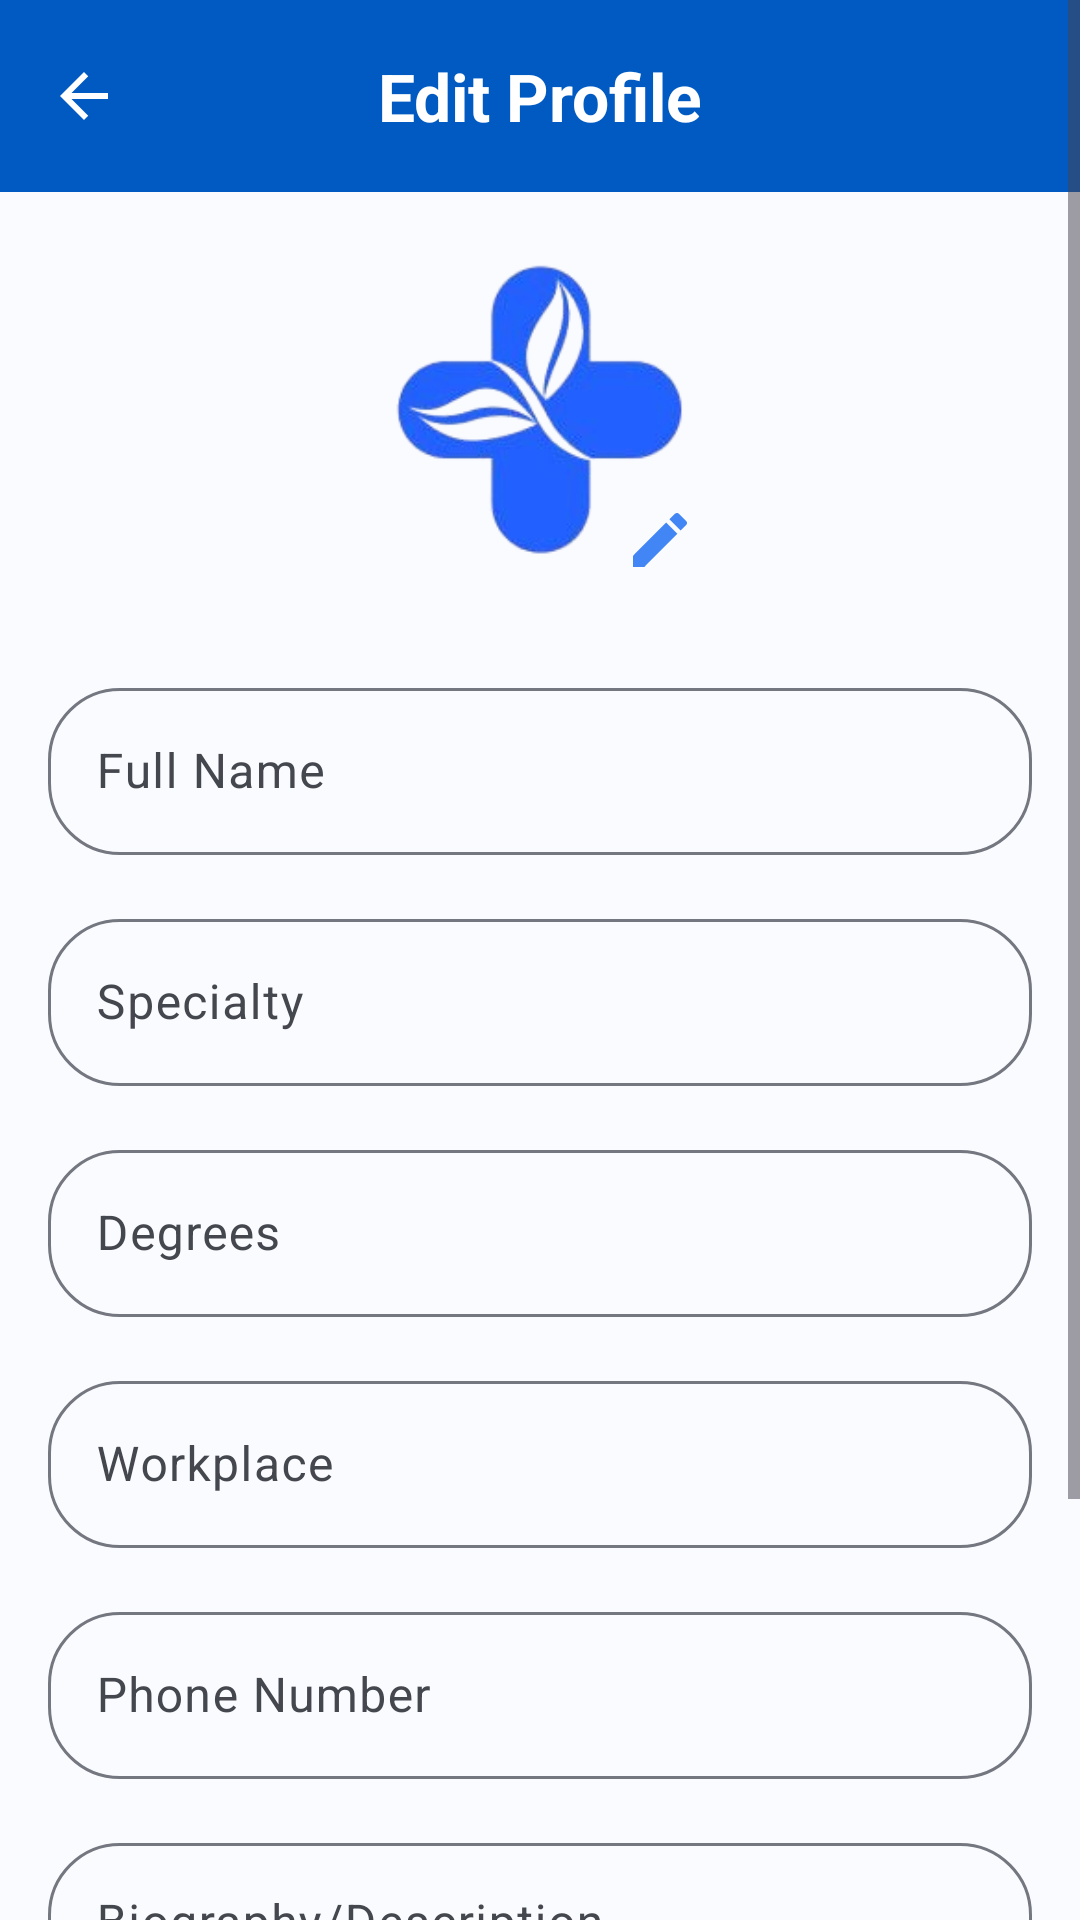

Where icons sit on this 1080x1920 app screen, as (x1, y1, x2, y2):
edit: (633, 513, 687, 567)
